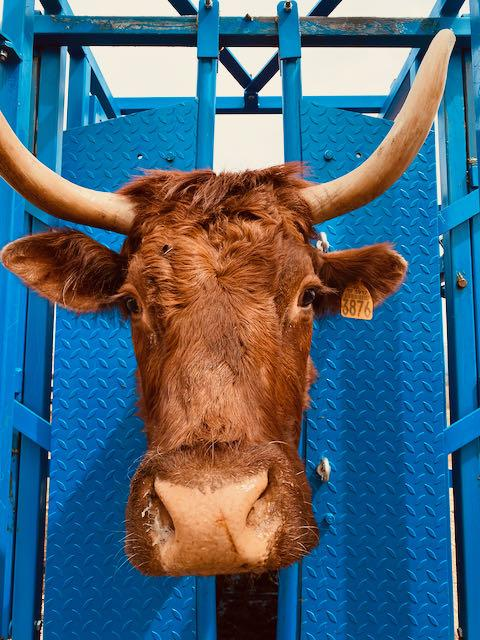muzzles: (114, 469, 327, 583)
